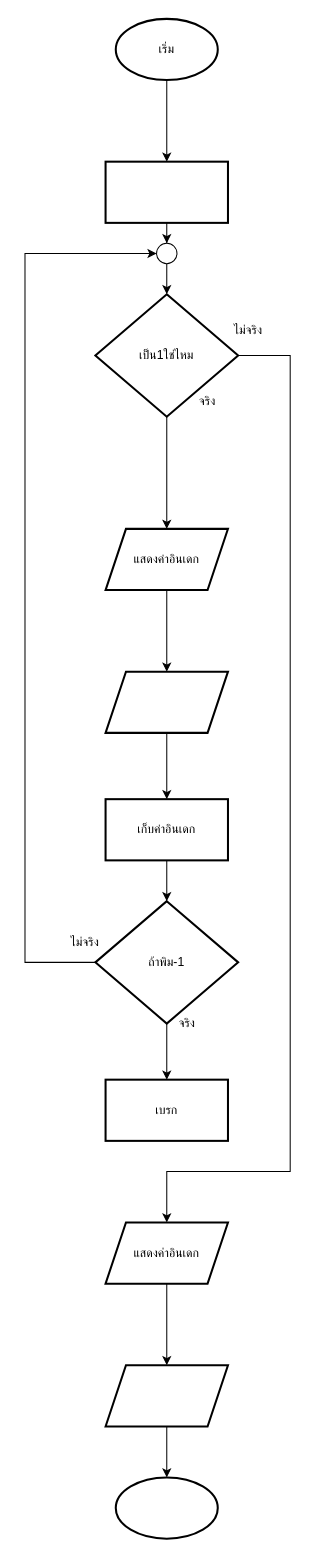
Some shapes in this 316 by 1557 pixel diagram are drawn without their labels. Here are the shapes that lost their labels. From the top down, the centre of each, then its label:
(166,191): กำหนดตัวแปรจำนวนอาเรย์ อินเดก แวรลู่
(166,701): รับค่าแวรลู่
(166,1395): แสดงค่าอาเรย์
